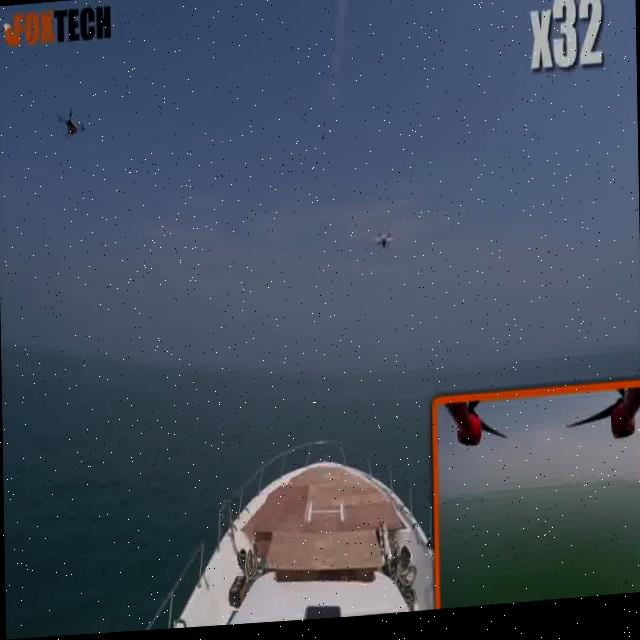drone: (49, 92, 98, 148), (368, 220, 407, 278)
